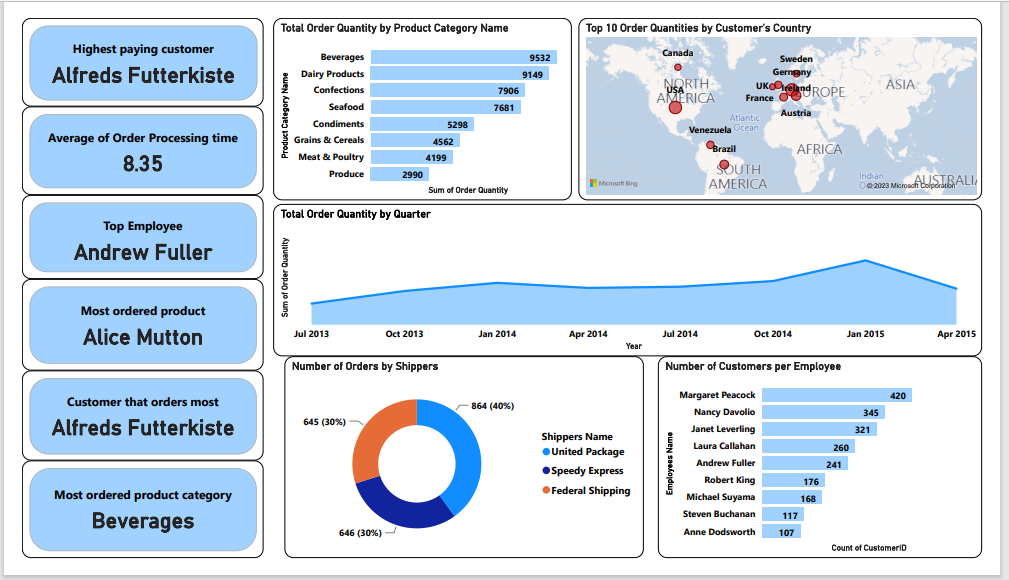

Layout of this report page (visuals, bound fields, positions):
{"tool":"powerbi","page":{"name":"Page 2","canvas":[1280,720],"ordinal":1},"visuals":[{"type":"map","title":"Top 10 Order Quantities by Customer''s Country","fields":{"Category":["Full table.Customer Country"],"Size":["Full table.Order Quantity"]},"box":[742.4,0,538,243.5],"z":0},{"type":"cardVisual","fields":{"Data":["Full table.Order Processing time"]},"box":[0,135.4,321.1,145.4],"z":1000},{"type":"cardVisual","fields":{"Data":["Full table.Highest paying customer"]},"box":[0,0,321.1,135.4],"z":2000},{"type":"cardVisual","fields":{"Data":["Full table.Most ordered product"]},"box":[0,280.8,321.1,139.7],"z":4000},{"type":"cardVisual","fields":{"Data":["Full table.Customer that orders most"]},"box":[0,420.5,321.1,141.1],"z":5000},{"type":"barChart","title":"Total Order Quantity by Product Category ","fields":{"Category":["Full table.Product Category Name"],"Y":["Full table.Order Quantity"]},"box":[334.8,0,397.8,243.5],"z":6000},{"type":"cardVisual","fields":{"Data":["Full table.Most ordered product category"]},"box":[0,561.6,321.1,158.4],"z":7000},{"type":"donutChart","title":"Number of Orders by Shippers","fields":{"Category":["Full table.Shippers Name"],"Y":["Full table.OrderID"]},"box":[350,451.1,479.3,268.5],"z":8000},{"type":"areaChart","title":"Total Order Quantity by Quarter","fields":{"Category":["Full table.Order Shipped Date.Variation.Date Hierarchy.Year","Full table.Order Shipped Date.Variation.Date Hierarchy.Quarter"],"Y":["Full table.Order Quantity"]},"box":[334.8,247.8,945.7,203.3],"z":9000},{"type":"barChart","title":"Number of Customers per Employee","fields":{"Category":["Full table.Employees Name"],"Y":["Full table.CustomerID"]},"box":[847.8,451.1,432.6,268.5],"z":10000}]}

Visuals, with their boxes in screenshot pixels (x1, y1, x2, y2), scaled from the page's 1280x720 canvas onto the 1009x580 screenshot:
"Top 10 Order Quantities by Customer''s Country" map: [left=585, top=0, right=1008, bottom=196]
cardVisual - Full table.Order Processing time: [left=0, top=109, right=253, bottom=226]
cardVisual - Full table.Highest paying customer: [left=0, top=0, right=253, bottom=109]
cardVisual - Full table.Most ordered product: [left=0, top=226, right=253, bottom=339]
cardVisual - Full table.Customer that orders most: [left=0, top=339, right=253, bottom=452]
"Total Order Quantity by Product Category " barChart: [left=264, top=0, right=577, bottom=196]
cardVisual - Full table.Most ordered product category: [left=0, top=452, right=253, bottom=579]
"Number of Orders by Shippers" donutChart: [left=276, top=363, right=654, bottom=579]
"Total Order Quantity by Quarter" areaChart: [left=264, top=200, right=1008, bottom=363]
"Number of Customers per Employee" barChart: [left=668, top=363, right=1008, bottom=579]
